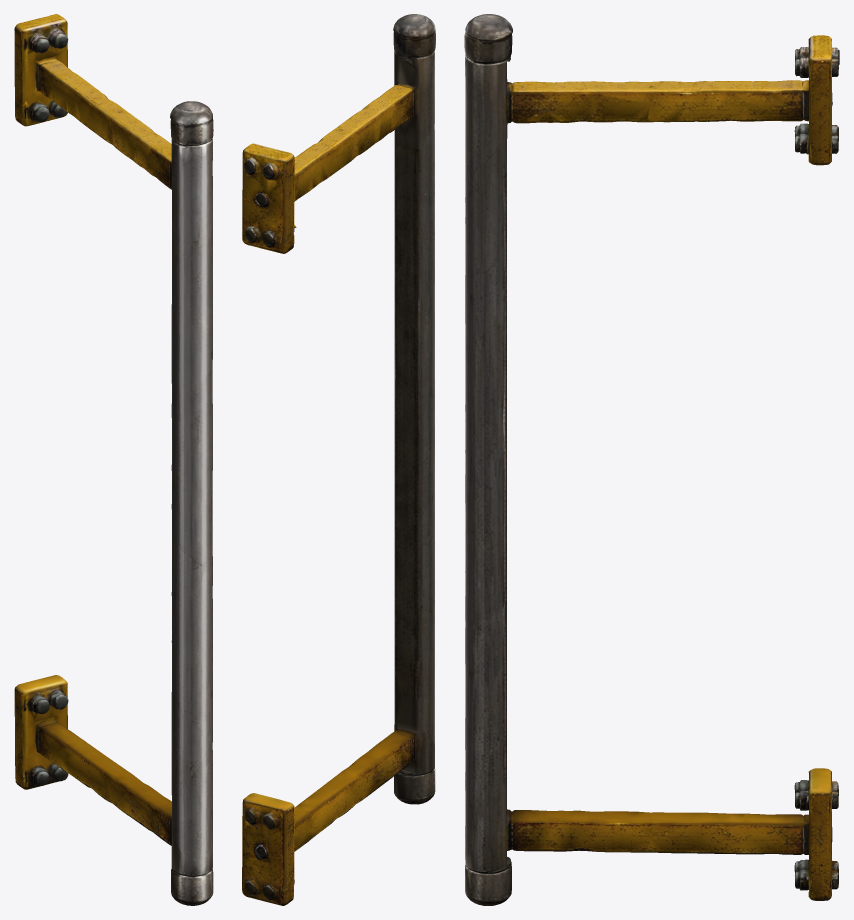
The model's file is pole.glb.
3 renders of one model, left to right at view 1: azimuth 30°, elevation 25°; view 2: azimuth 150°, elevation 25°; view 3: azimuth 270°, elevation 25°, orthographic. The views are drawn at different scales.
Parts seen in each view (by area): view 1: tripo_node_f8e1757e-d95b-4fc3-9036-c50e679ef436; view 2: tripo_node_f8e1757e-d95b-4fc3-9036-c50e679ef436; view 3: tripo_node_f8e1757e-d95b-4fc3-9036-c50e679ef436.
Part boxes in pixels (x1,y1,x2,y2): tripo_node_f8e1757e-d95b-4fc3-9036-c50e679ef436: (14, 14, 213, 905); tripo_node_f8e1757e-d95b-4fc3-9036-c50e679ef436: (242, 14, 435, 905); tripo_node_f8e1757e-d95b-4fc3-9036-c50e679ef436: (464, 14, 839, 905).
Bounding box in the file's own units: 0.0599 × 0.9797 × 0.3766.
1 material, 1 textured.
